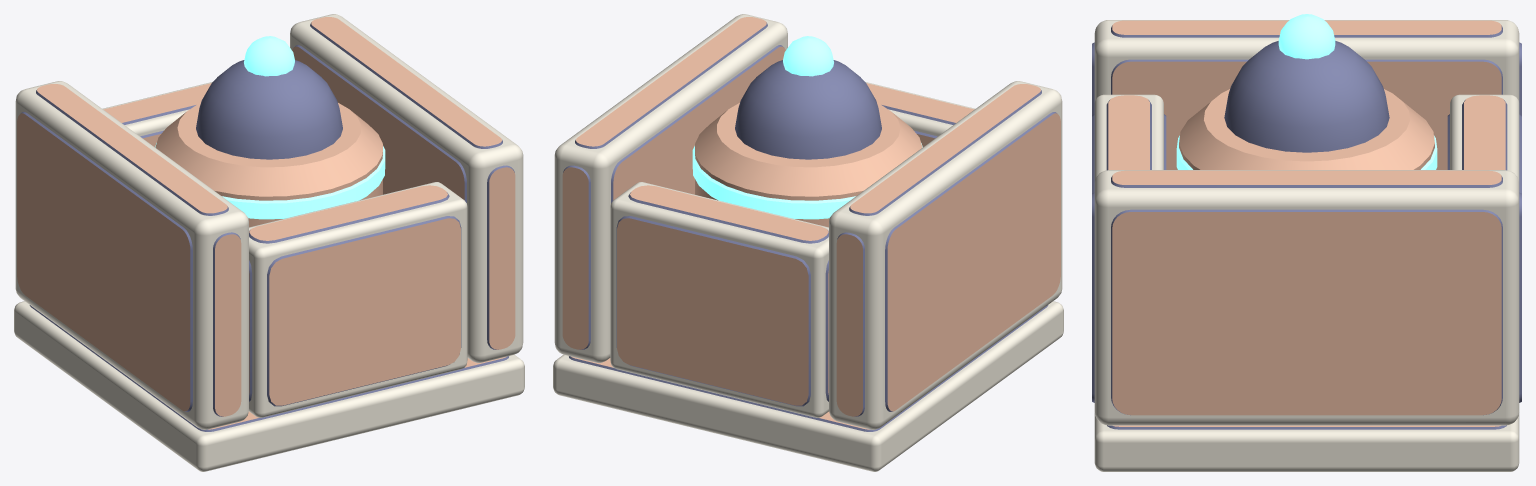
The model's file is R4X_DeployableShieldGenerator.fbx.
The picture shows the model from 3 angles, left to right: view 1: azimuth 30°, elevation 25°; view 2: azimuth 150°, elevation 25°; view 3: azimuth 270°, elevation 25°; orthographic projection. The views are drawn at different scales.
Visible parts, largest first — view 1: R4X_DeployableShieldGenerator_Body, R4X_DeployableShieldGenerator_Payload; view 2: R4X_DeployableShieldGenerator_Body, R4X_DeployableShieldGenerator_Payload; view 3: R4X_DeployableShieldGenerator_Body, R4X_DeployableShieldGenerator_Payload.
Boxes of the visible parts, left/top/right/bottom form: R4X_DeployableShieldGenerator_Body: left=14, top=14, right=524, bottom=471; R4X_DeployableShieldGenerator_Payload: left=155, top=36, right=385, bottom=227; R4X_DeployableShieldGenerator_Body: left=553, top=14, right=1063, bottom=471; R4X_DeployableShieldGenerator_Payload: left=692, top=36, right=922, bottom=227; R4X_DeployableShieldGenerator_Body: left=1092, top=20, right=1521, bottom=471; R4X_DeployableShieldGenerator_Payload: left=1176, top=14, right=1437, bottom=169.
Bounding box in the file's own units: 0.52 × 0.495 × 0.52.
